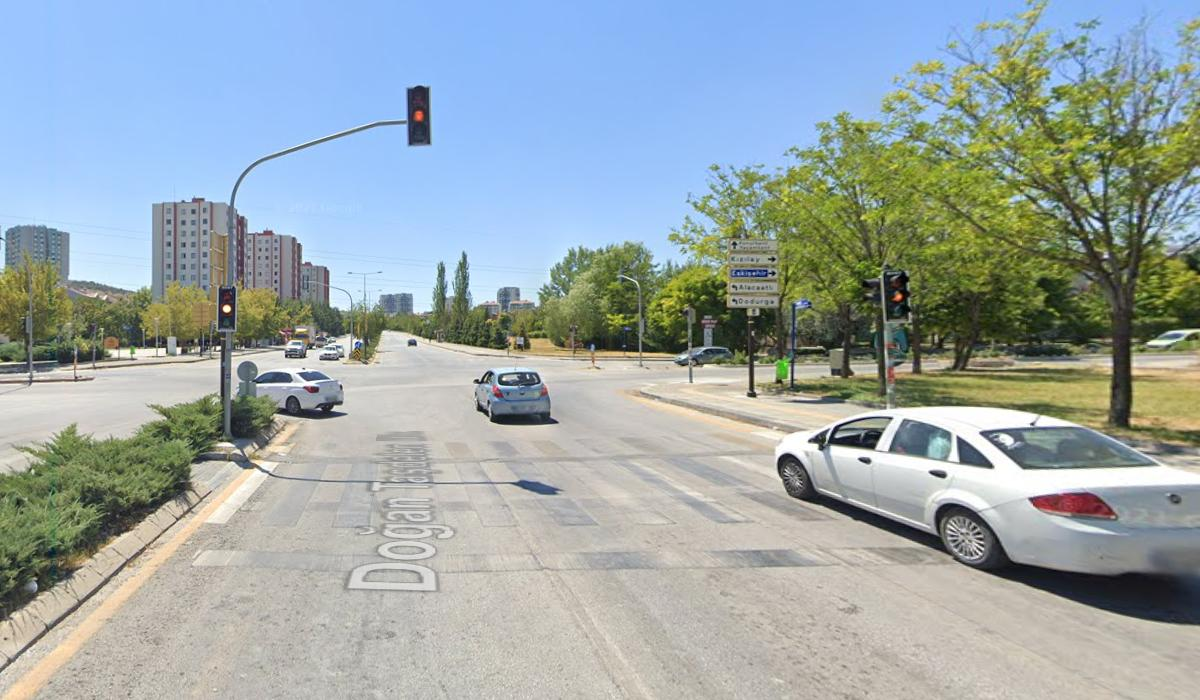yellowlight: (879, 268, 910, 322), (408, 86, 428, 144), (217, 287, 238, 334)
